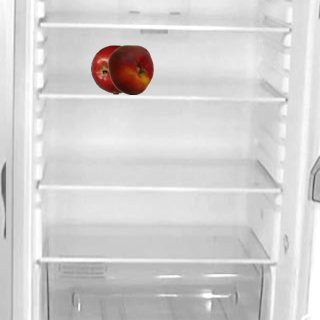Apple Braeburn: (90, 44, 140, 94)
Nectarine Flat: (105, 44, 155, 94)
